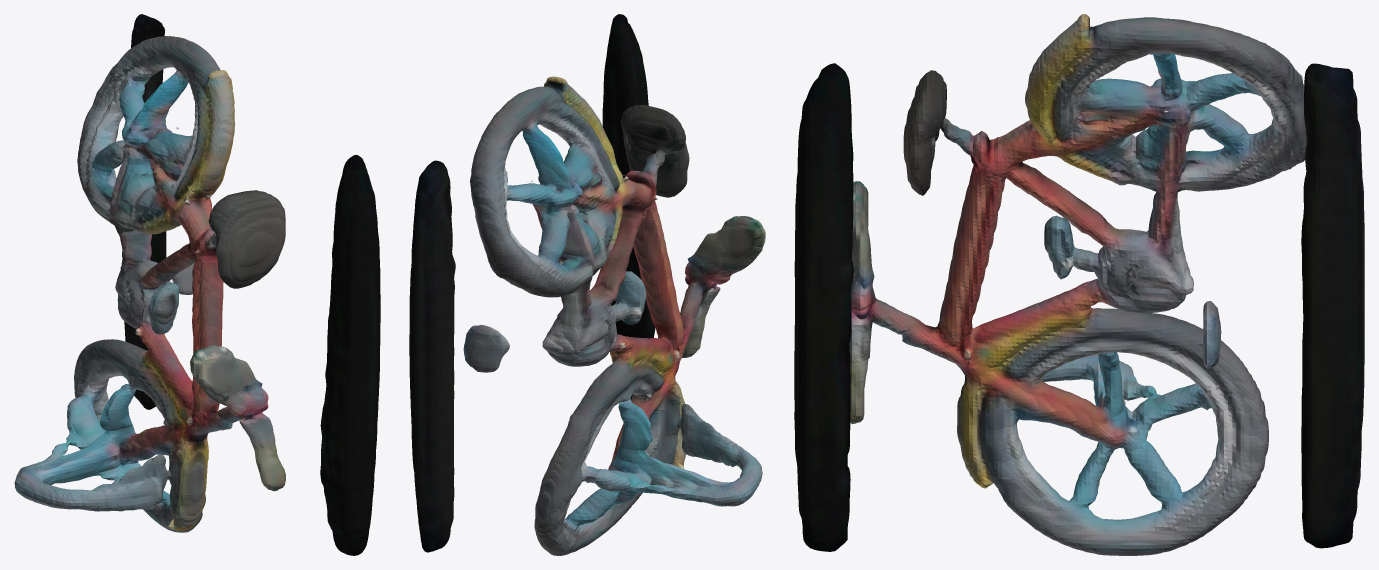
The model's file is 000008_bicycle_small_vehicle.glb.
The picture shows the model from 3 angles, left to right: view 1: azimuth 30°, elevation 25°; view 2: azimuth 150°, elevation 25°; view 3: azimuth 270°, elevation 25°; orthographic projection. The views are drawn at different scales.
Visible parts, largest first — view 1: world; view 2: world; view 3: world.
Boxes of the visible parts, left/top/right/bottom form: world: left=14, top=14, right=380, bottom=555; world: left=409, top=14, right=765, bottom=555; world: left=794, top=14, right=1364, bottom=555.
Size of the model in its own units: 0.5859 by 1.02 by 0.9313.
